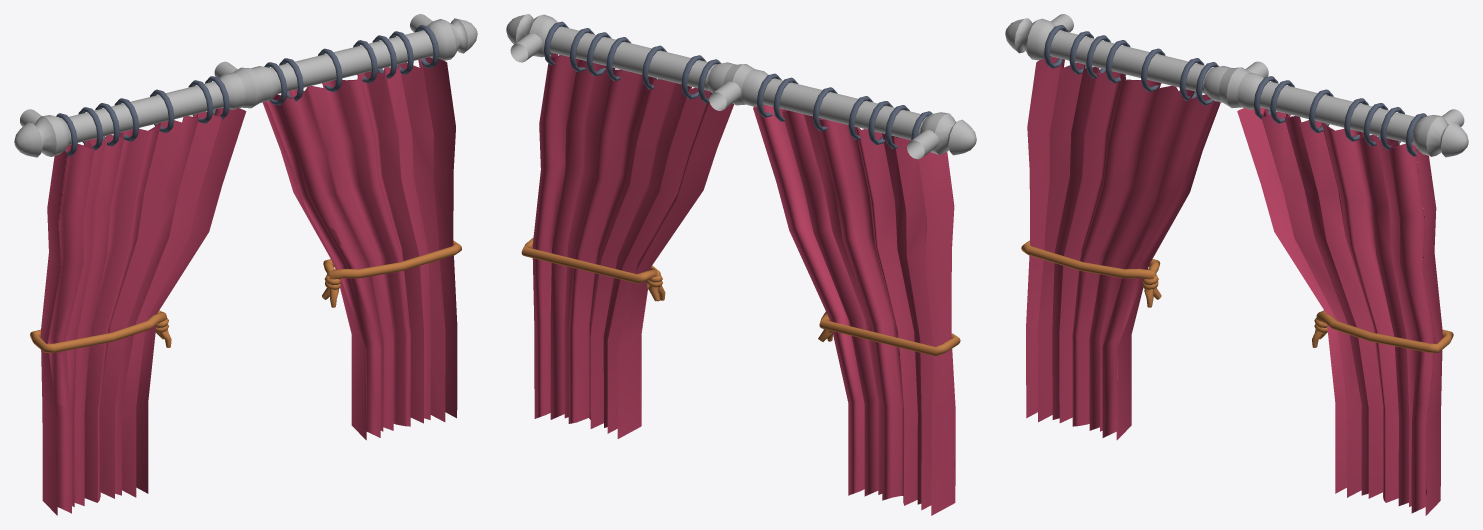
The model's file is curtains.fbx.
3 renders of one model, left to right at view 1: azimuth 30°, elevation 25°; view 2: azimuth 150°, elevation 25°; view 3: azimuth 330°, elevation 25°, orthographic.
Parts seen in each view (by area): view 1: curtains; view 2: curtains; view 3: curtains.
Part boxes in pixels (x1=…): curtains: x1=14, y1=14, x2=477, y2=515; curtains: x1=506, y1=14, x2=976, y2=515; curtains: x1=1005, y1=14, x2=1468, y2=515.
Bounding box in the file's own units: 233 × 189 × 31.37.
Materials: 1 (1 with a texture image).
